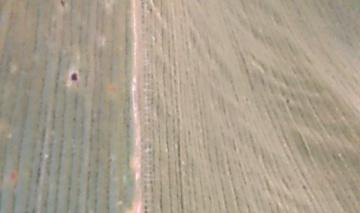tarspot: (70, 72, 79, 82), (60, 1, 66, 8)
